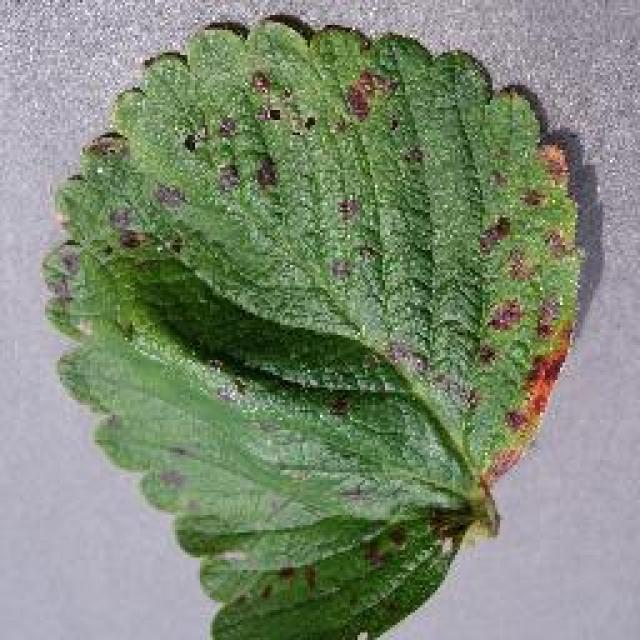Strawberry___Leaf_scorch: (18, 0, 610, 640)
